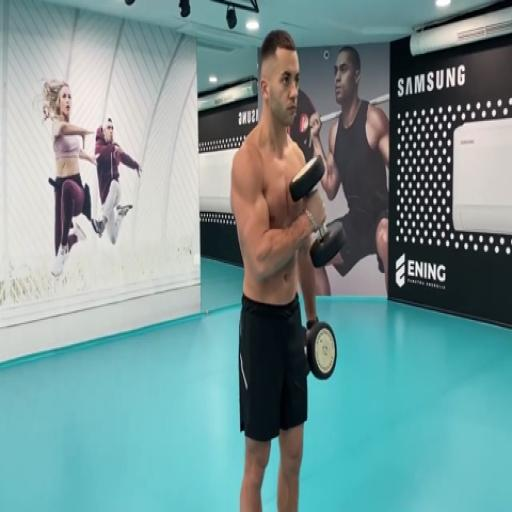exercise: (228, 28, 333, 510), (307, 44, 392, 300), (38, 77, 100, 280), (90, 115, 144, 249)
